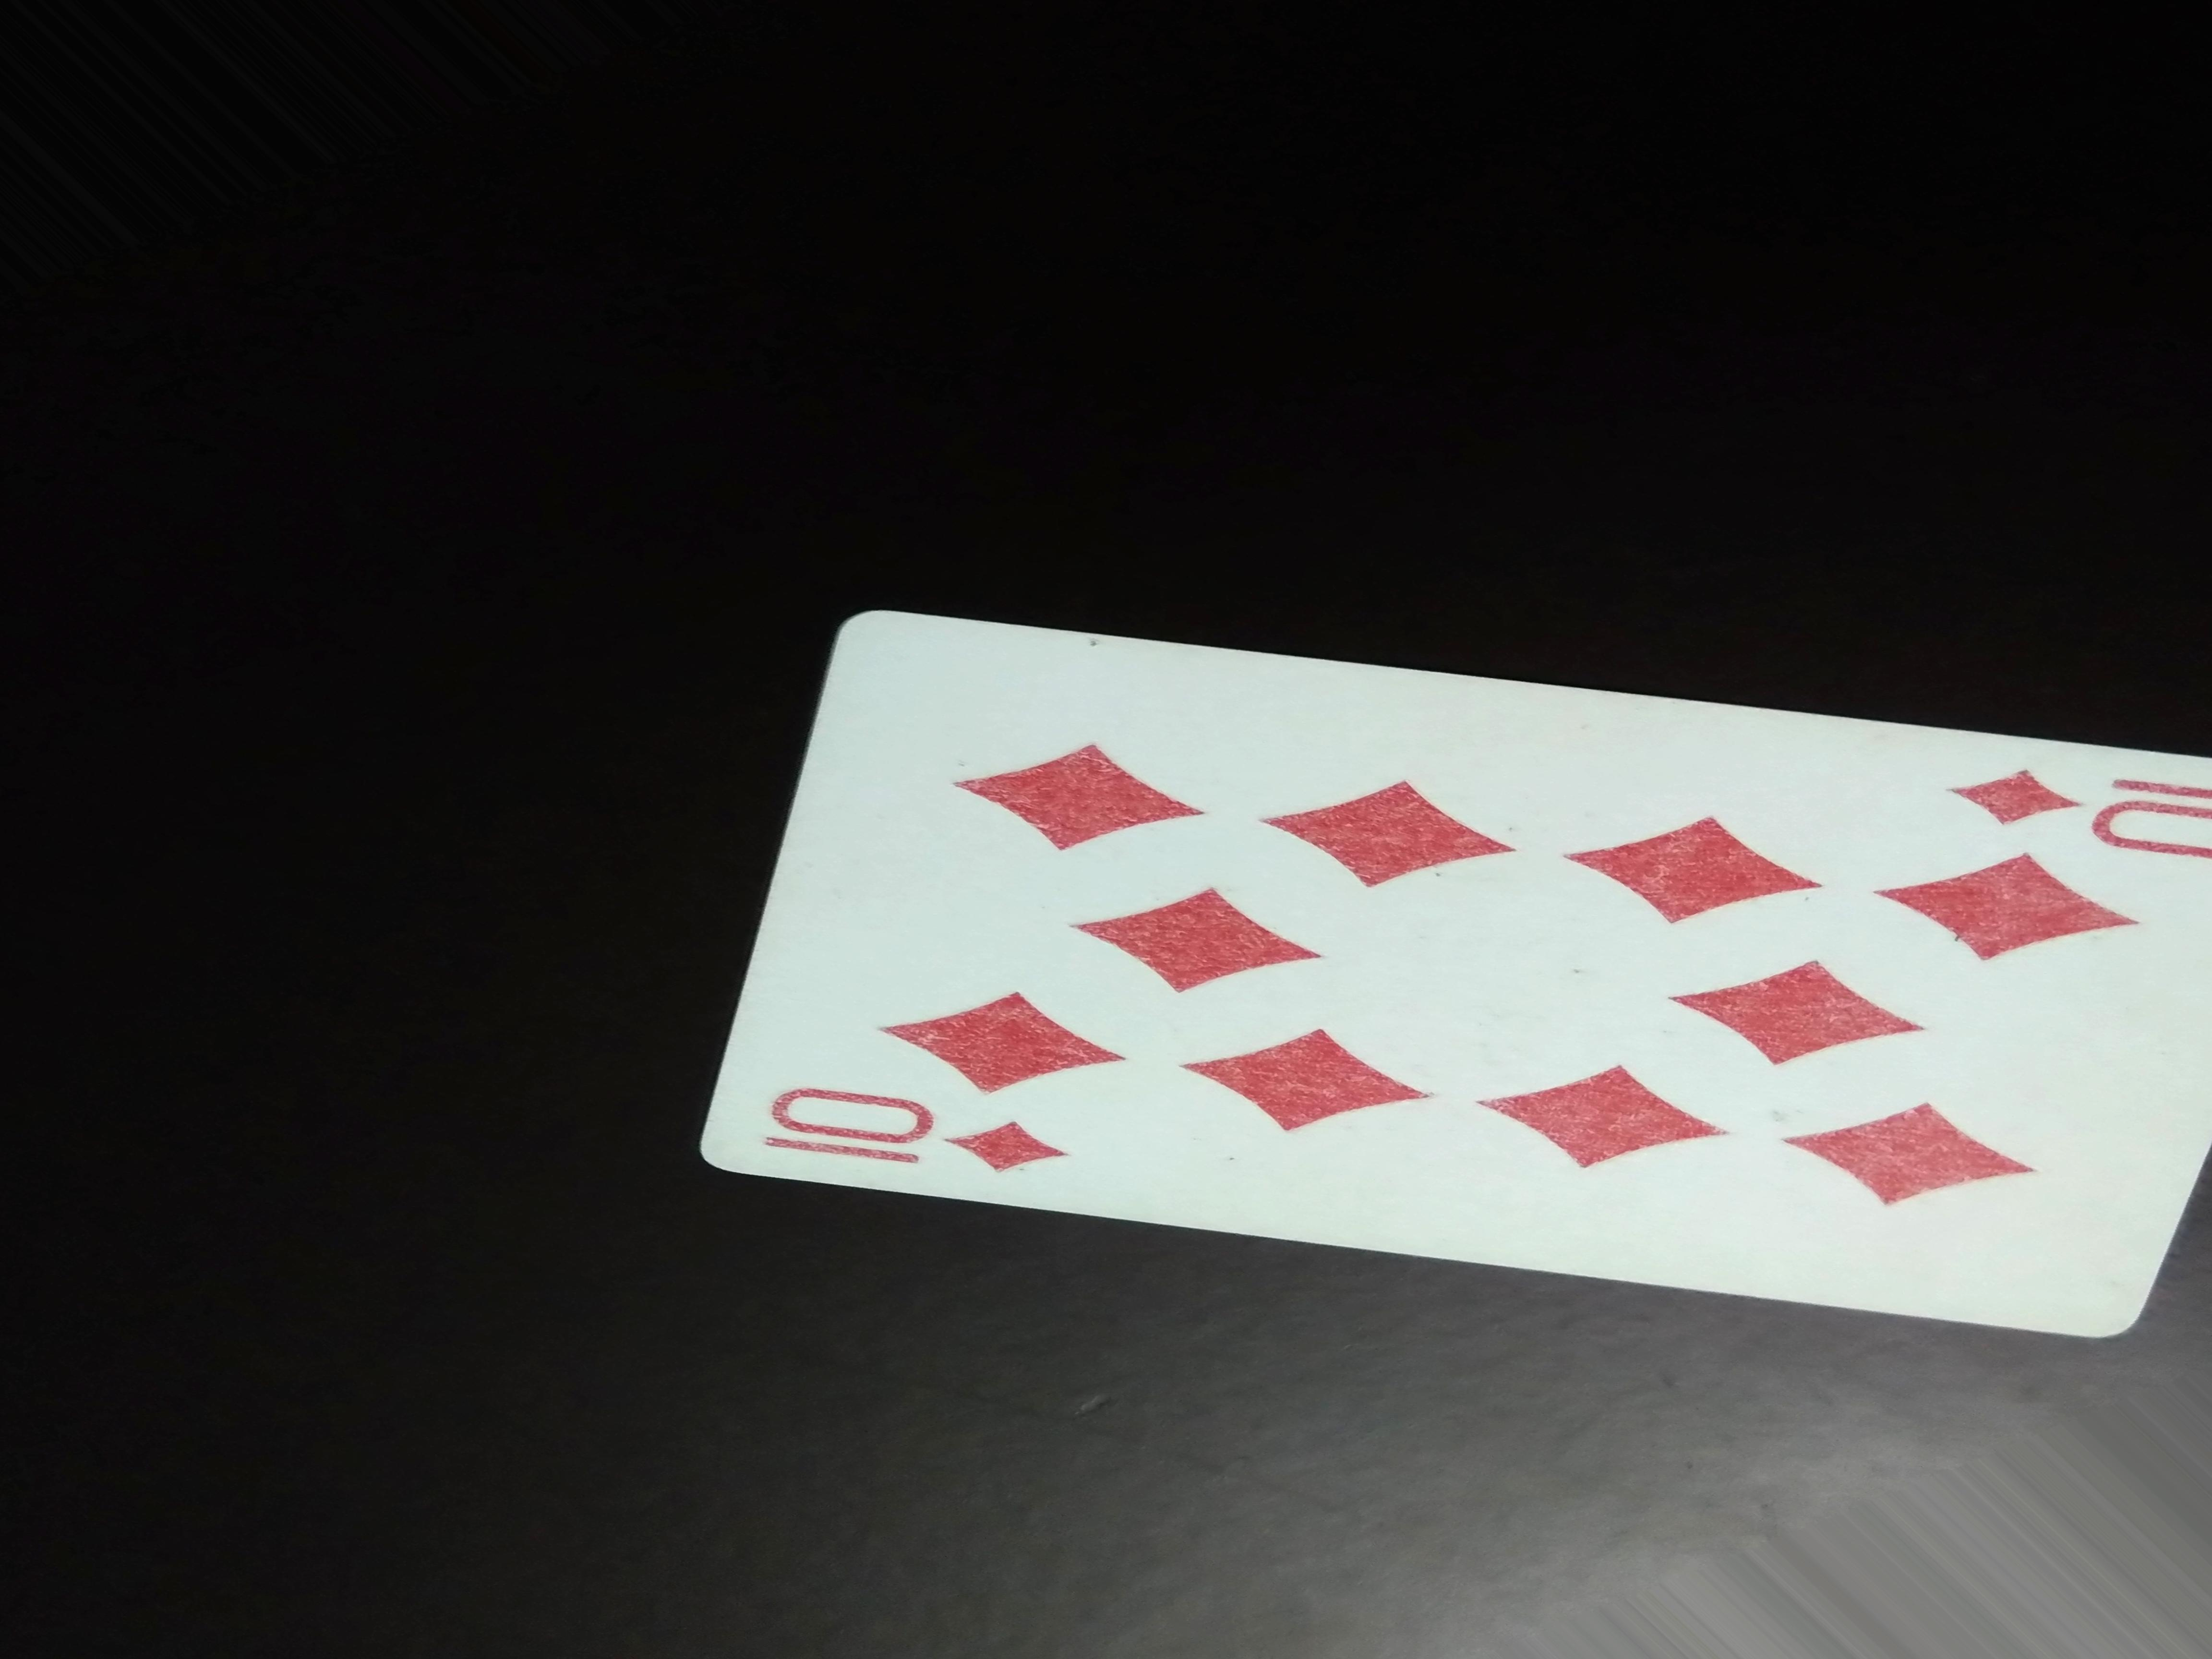10D: (752, 1080, 1069, 1180)
